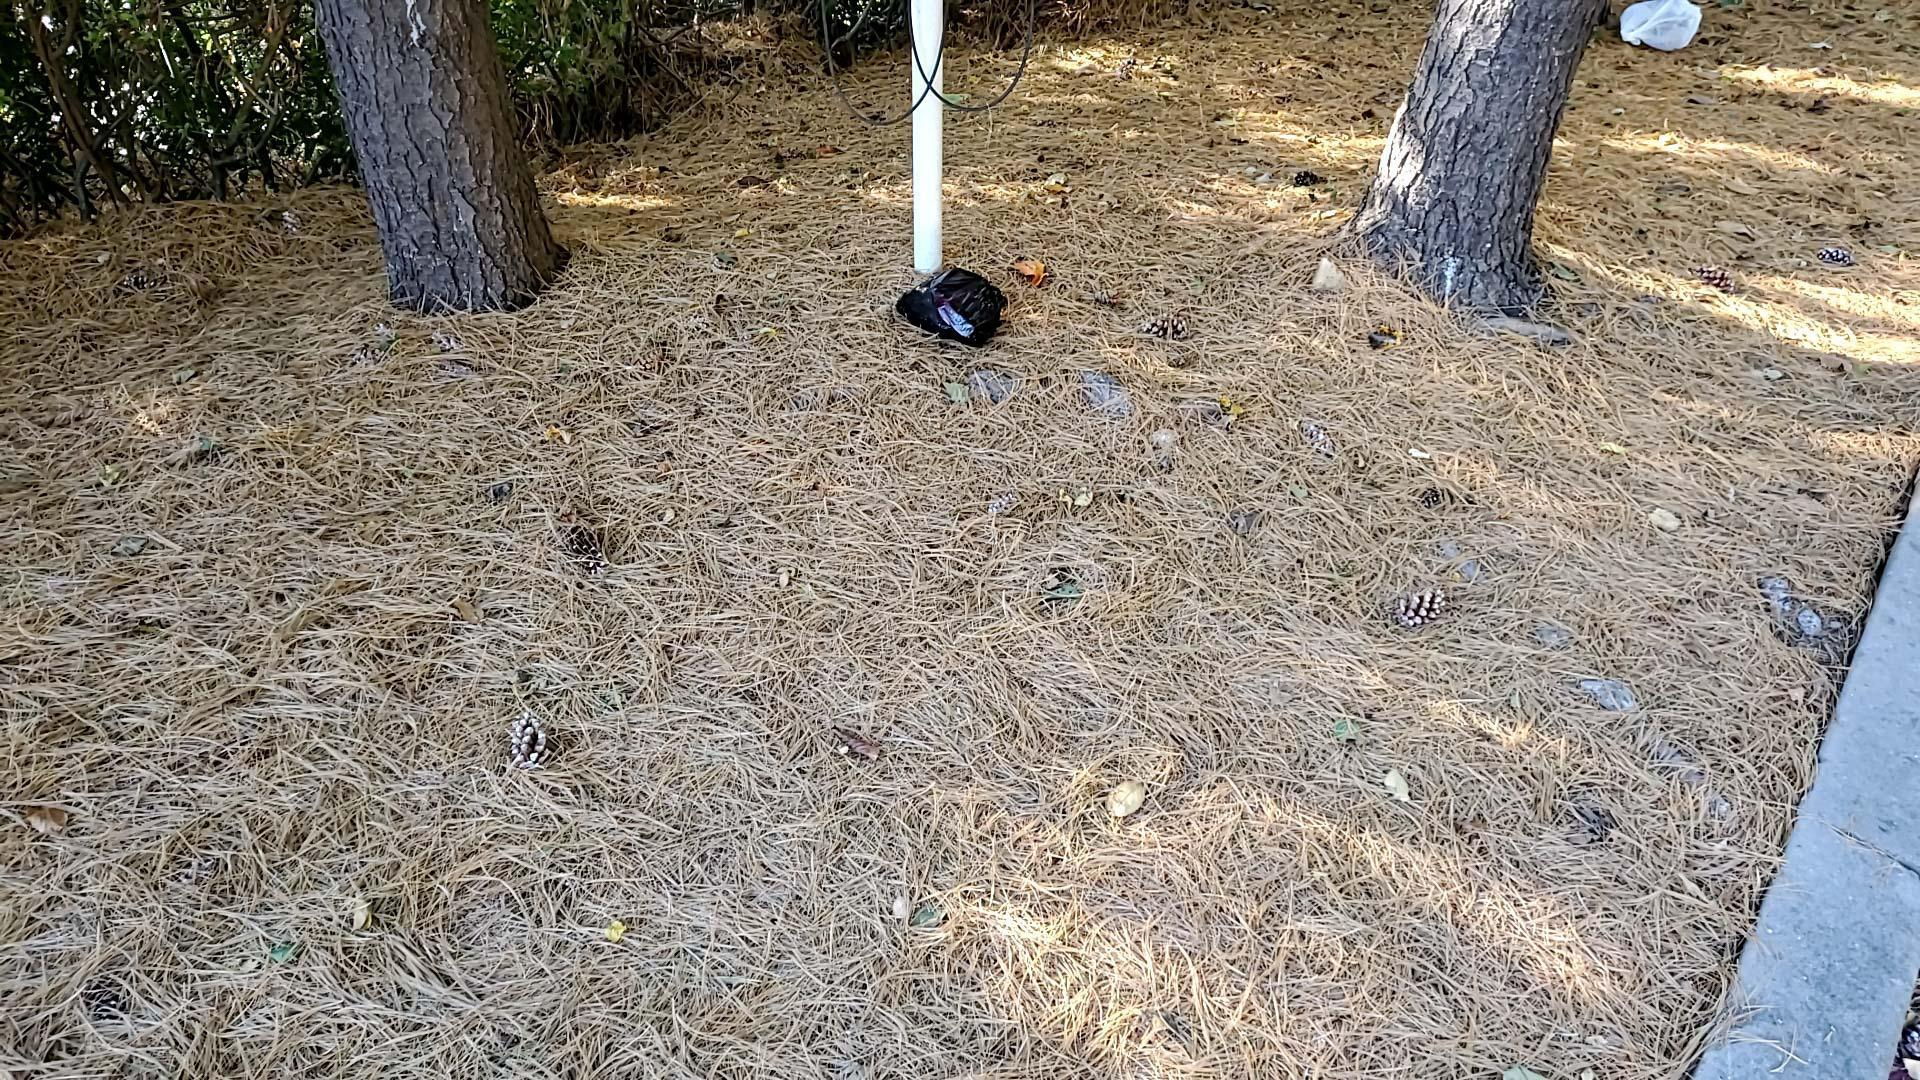black_bag: (886, 260, 1011, 348)
